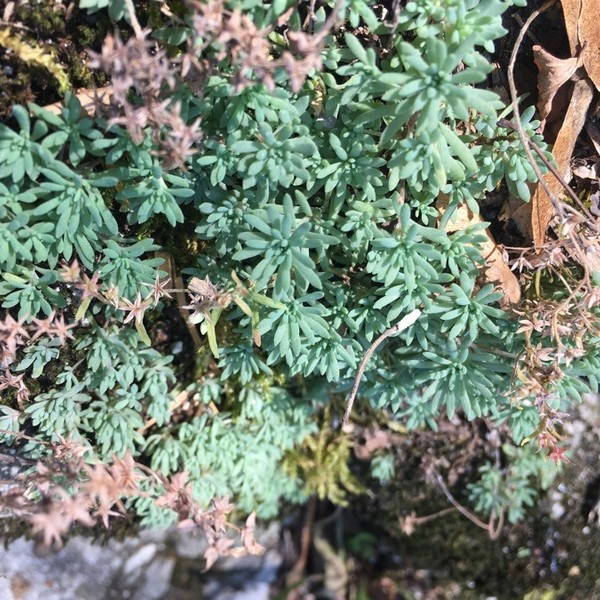obstacle: (90, 51, 492, 376)
